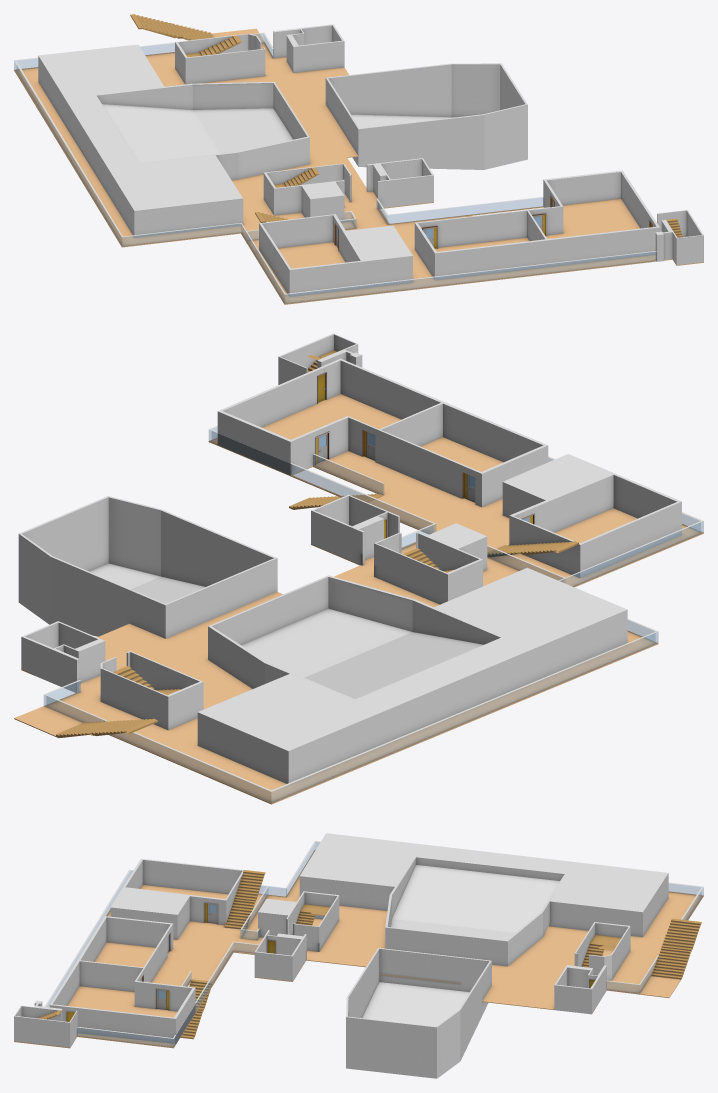
Rendered from COM2_B1.dae.
3 views of the same model, one above another, from view 1: azimuth 30°, elevation 25°; view 2: azimuth 150°, elevation 25°; view 3: azimuth 270°, elevation 25° (orthographic). The views are drawn at different scales.
Parts seen in each view (by area): view 1: COM2_B1_Zone2, COM2_B1_Floor, COM2_B1_Zone1, Cap_2 (×4), COM2_B1_Misc, COM2_B1_LowWall, COM2_B1_Stairs, COM2_B1_FloorSide, New_doors.1; view 2: COM2_B1_Zone2, COM2_B1_Floor, COM2_B1_Zone1, Cap_2 (×4), COM2_B1_Misc, COM2_B1_LowWall, COM2_B1_Stairs, COM2_B1_FloorSide, New_doors.1; view 3: COM2_B1_Zone2, COM2_B1_Floor, Cap_2 (×4), COM2_B1_Zone1, COM2_B1_Misc, COM2_B1_Stairs, COM2_B1_LowWall, New_doors.1, COM2_B1_FloorSide.
Boxes of the visible parts, box(x1,y1,x2,y2) form: COM2_B1_Zone2: box(38, 56, 527, 237); COM2_B1_Floor: box(14, 28, 656, 303); COM2_B1_Zone1: box(259, 172, 659, 296); Cap_2 (×4): box(14, 24, 703, 294); COM2_B1_Misc: box(175, 25, 703, 264); COM2_B1_LowWall: box(14, 33, 656, 303); COM2_B1_Stairs: box(130, 14, 682, 237); COM2_B1_FloorSide: box(14, 70, 703, 304); New_doors.1: box(334, 195, 652, 251); COM2_B1_Zone2: box(18, 496, 627, 783); COM2_B1_Floor: box(14, 394, 703, 803); COM2_B1_Zone1: box(217, 360, 681, 578); Cap_2 (×4): box(22, 333, 703, 791); COM2_B1_Misc: box(21, 334, 487, 730); COM2_B1_LowWall: box(44, 427, 703, 803); COM2_B1_Stairs: box(56, 350, 578, 737); COM2_B1_FloorSide: box(14, 441, 703, 804); New_doors.1: box(61, 372, 534, 651); COM2_B1_Zone2: box(299, 856, 668, 1078); COM2_B1_Floor: box(67, 849, 703, 1047); Cap_2 (×4): box(14, 833, 703, 1038); COM2_B1_Zone1: box(49, 860, 242, 1043); COM2_B1_Misc: box(14, 892, 630, 1047); COM2_B1_Stairs: box(38, 870, 701, 1039); COM2_B1_LowWall: box(46, 842, 703, 1047); New_doors.1: box(66, 902, 595, 1021); COM2_B1_FloorSide: box(14, 896, 703, 1048).
Bounding box in the file's own units: 57.99 × 6.97 × 83.38.
Materials: 10 (7 with a texture image).
